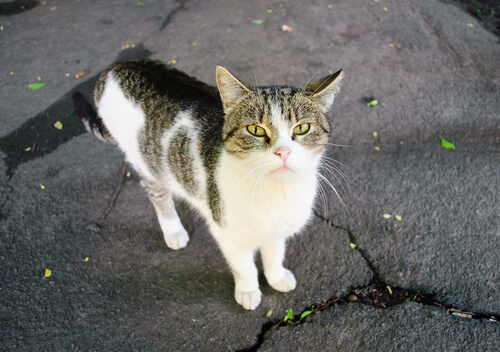cat: (53, 38, 353, 317)
